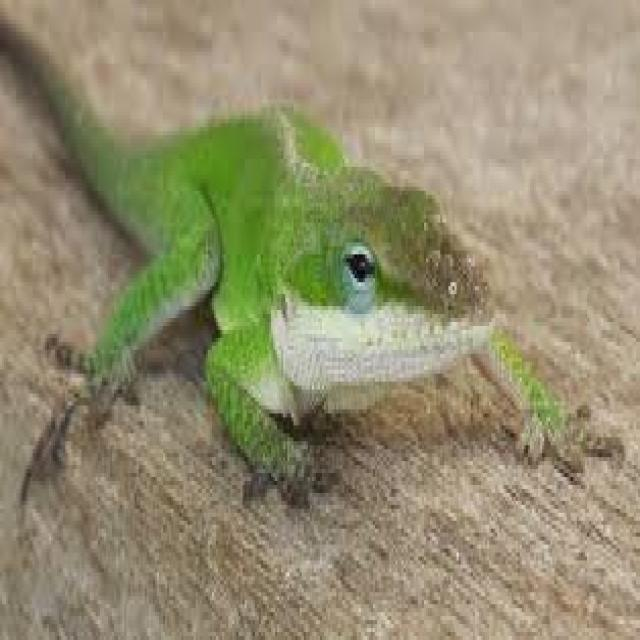Lizard: (0, 12, 623, 522)
